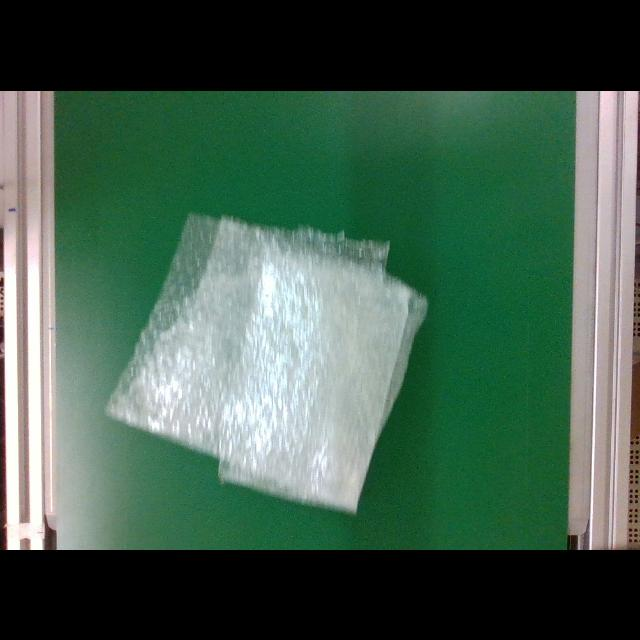scrap_plastic: (100, 209, 428, 517)
